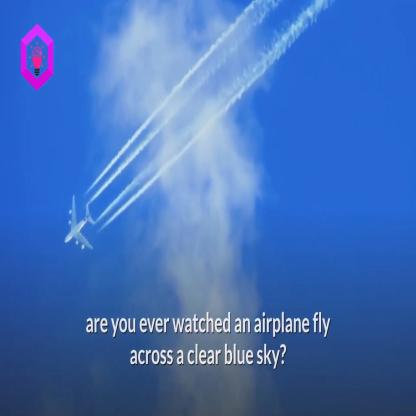plane: (58, 196, 108, 255)
